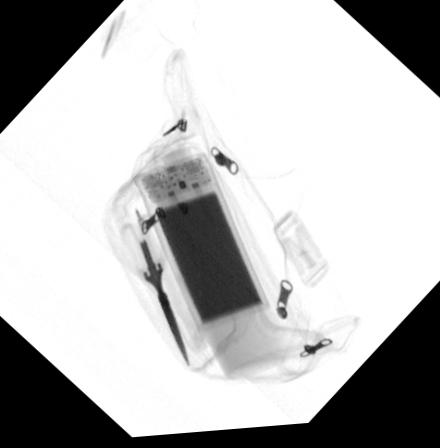Powerbank: (134, 154, 273, 337)
Scissors: (121, 216, 190, 372)
